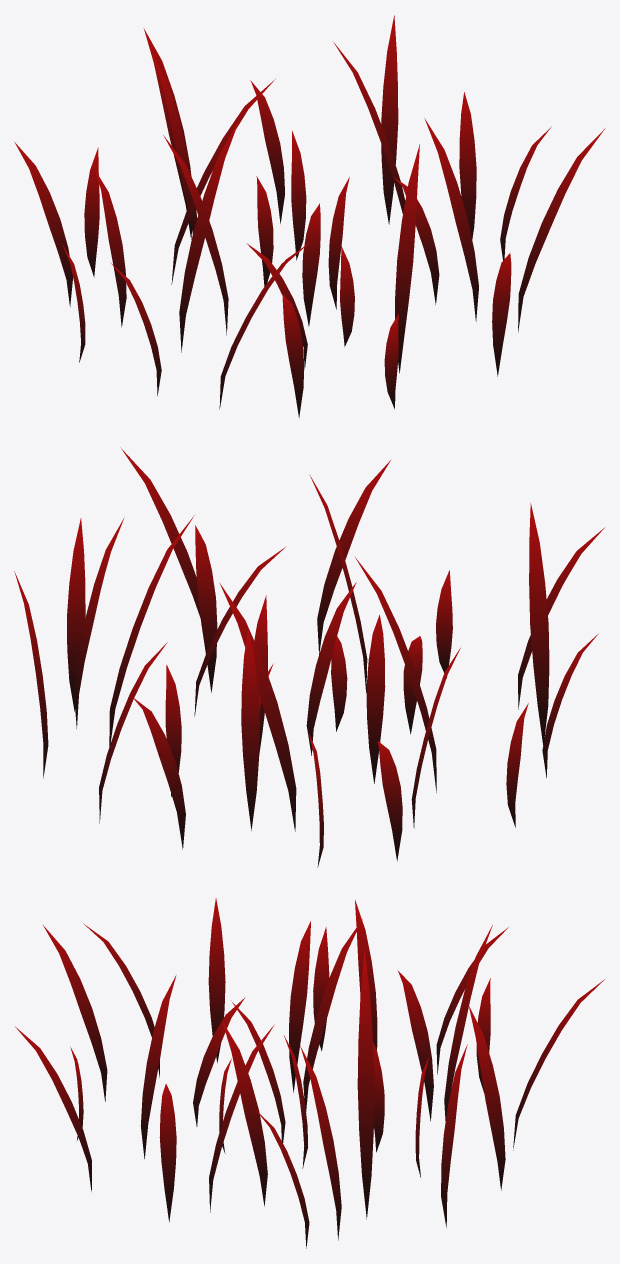
File: stylized_grass_LOD.fbx
3 views of the same model, one above another, from view 1: azimuth 30°, elevation 25°; view 2: azimuth 150°, elevation 25°; view 3: azimuth 270°, elevation 25° (orthographic). The views are drawn at different scales.
Visible parts, largest first — view 1: Grass_LOD0; view 2: Grass_LOD0; view 3: Grass_LOD0.
Boxes of the visible parts, x1,y1,x2,y2 form: Grass_LOD0: (14, 15, 605, 418); Grass_LOD0: (14, 447, 604, 867); Grass_LOD0: (15, 898, 604, 1248).
Size of what is drawn, in the model's own units: 3.31 by 1.62 by 3.71.
